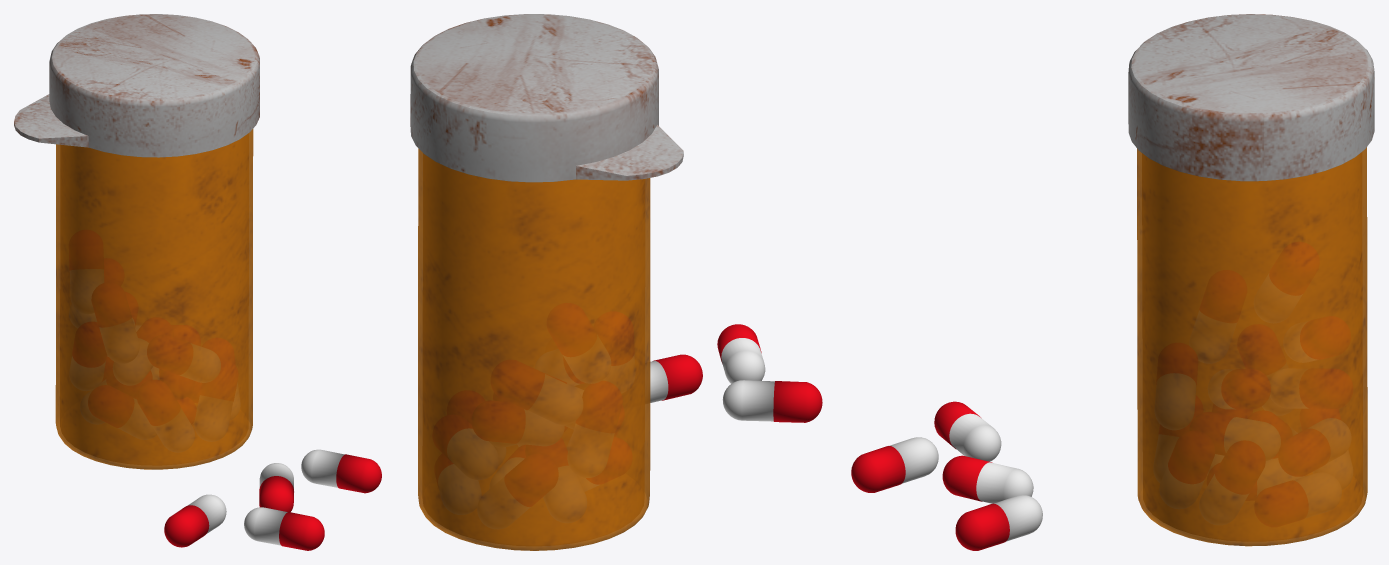
File: pill-bottle.glb
3 renders of one model, left to right at view 1: azimuth 30°, elevation 25°; view 2: azimuth 150°, elevation 25°; view 3: azimuth 270°, elevation 25°, orthographic. The views are drawn at different scales.
Parts seen in each view (by area): view 1: Bottle, Cap, Sphere19PillTop, Sphere22PillTop, Sphere21PillTop, Sphere19PillBottom, Sphere22PillBottom, Sphere20PillTop, Sphere21PillBottom, Sphere20PillBottom; view 2: Bottle, Cap, Sphere21PillBottom, Sphere21PillTop, Sphere22PillBottom, Sphere20PillTop, Sphere20PillBottom, Sphere22PillTop; view 3: Bottle, Cap, Sphere22PillTop, Sphere19PillTop, Sphere21PillBottom, Sphere20PillBottom, Sphere20PillTop, Sphere22PillBottom, Sphere19PillBottom, Sphere21PillTop.
Part boxes in pixels (x1,y1,x2,y2): Bottle: (55, 129, 253, 469); Cap: (14, 14, 259, 157); Sphere19PillTop: (336, 454, 381, 493); Sphere22PillTop: (279, 512, 324, 550); Sphere21PillTop: (164, 505, 209, 547); Sphere19PillBottom: (301, 449, 344, 487); Sphere22PillBottom: (244, 507, 287, 545); Sphere20PillTop: (259, 476, 293, 512); Sphere21PillBottom: (188, 494, 226, 533); Sphere20PillBottom: (259, 463, 293, 488); Bottle: (418, 148, 650, 550); Cap: (410, 14, 683, 182); Sphere21PillBottom: (722, 380, 774, 421); Sphere21PillTop: (773, 381, 822, 422); Sphere22PillBottom: (721, 338, 765, 383); Sphere20PillTop: (653, 354, 702, 400); Sphere20PillBottom: (650, 361, 668, 402); Sphere22PillTop: (717, 324, 761, 363); Bottle: (1137, 147, 1367, 546); Cap: (1128, 14, 1374, 181); Sphere22PillTop: (851, 446, 905, 492); Sphere19PillTop: (955, 503, 1009, 550); Sphere21PillBottom: (949, 413, 1001, 461); Sphere20PillBottom: (976, 462, 1033, 503); Sphere20PillTop: (942, 455, 992, 501); Sphere22PillBottom: (889, 437, 938, 483); Sphere19PillBottom: (994, 495, 1042, 541); Sphere21PillTop: (934, 401, 980, 448).
Size of the model in its own units: 103 by 157 by 171.
4 materials, 2 textured.
